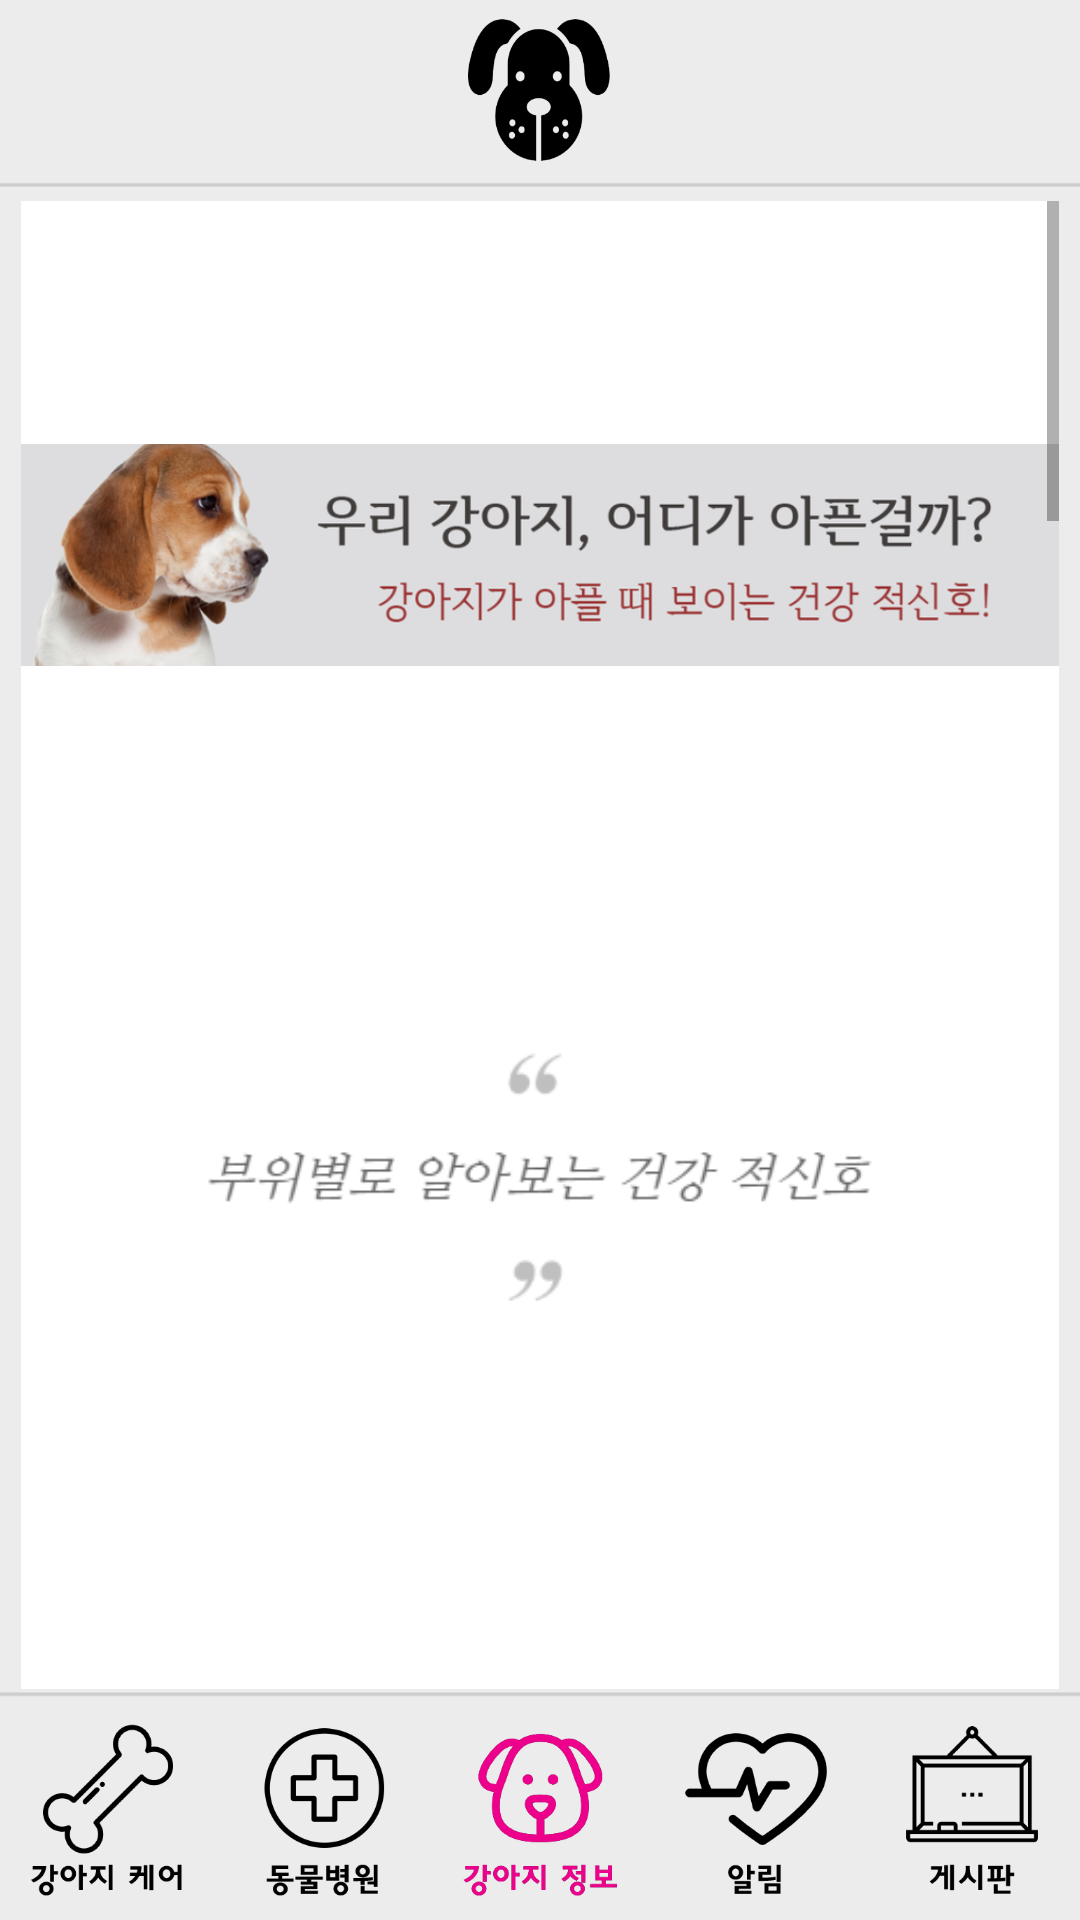

Named icons in this screenshot (1080 x 1920) and their bounding boxes, (x1, y1, x2, y2):
dogdogface: (468, 19, 610, 161)
